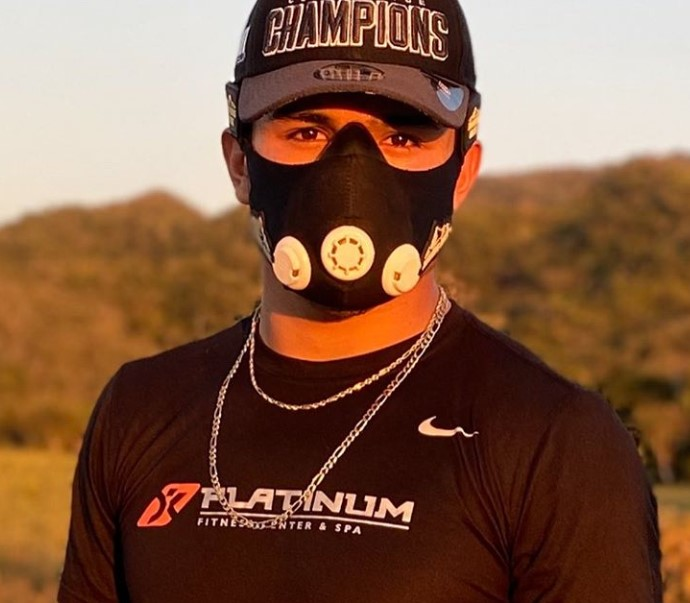face_with_mask: (225, 5, 481, 312)
